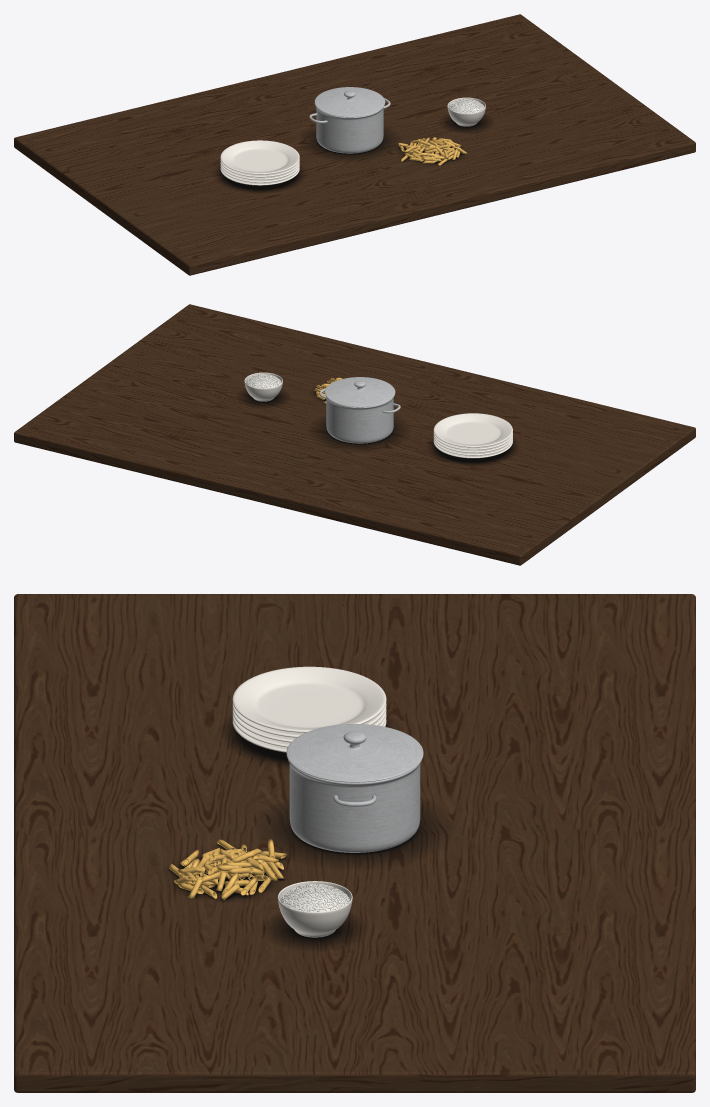
The picture shows the model from 3 angles, top to bottom: view 1: azimuth 30°, elevation 25°; view 2: azimuth 150°, elevation 25°; view 3: azimuth 270°, elevation 25°; orthographic projection. The views are drawn at different scales.
Visible parts, largest first — view 1: table, pot, plate_4, pot_lid, pasta, shadow_pot, shadow_plate_0, bowl, shadow_bowl, rice; view 2: table, pot, plate_4, pot_lid, shadow_pot, shadow_plate_0, bowl, shadow_bowl, rice; view 3: table, pot, plate_4, pot_lid, pasta, shadow_pot, bowl, shadow_bowl, rice, shadow_plate_0, shadow_pasta.
Boxes of the visible parts, left/top/right/bottom form: table: left=14, top=14, right=695, bottom=275; pot: left=309, top=98, right=390, bottom=153; plate_4: left=220, top=140, right=299, bottom=174; pot_lid: left=314, top=87, right=385, bottom=117; pasta: left=398, top=137, right=467, bottom=165; shadow_pot: left=302, top=127, right=396, bottom=160; shadow_plate_0: left=215, top=166, right=304, bottom=192; bowl: left=447, top=97, right=485, bottom=126; shadow_bowl: left=441, top=115, right=491, bottom=132; rice: left=448, top=99, right=484, bottom=113; table: left=14, top=304, right=695, bottom=565; pot: left=319, top=388, right=400, bottom=443; plate_4: left=433, top=413, right=512, bottom=447; pot_lid: left=324, top=377, right=395, bottom=407; shadow_pot: left=313, top=417, right=406, bottom=450; shadow_plate_0: left=428, top=438, right=517, bottom=465; bowl: left=244, top=372, right=282, bottom=401; shadow_bowl: left=238, top=390, right=288, bottom=407; rice: left=245, top=374, right=281, bottom=388; table: left=14, top=594, right=695, bottom=1092; pot: left=288, top=760, right=421, bottom=852; plate_4: left=232, top=666, right=386, bottom=732; pot_lid: left=286, top=724, right=423, bottom=782; pasta: left=169, top=839, right=286, bottom=900; shadow_pot: left=263, top=801, right=445, bottom=866; bowl: left=277, top=881, right=352, bottom=937; shadow_bowl: left=265, top=914, right=364, bottom=949; rice: left=280, top=884, right=349, bottom=912; shadow_plate_0: left=222, top=716, right=395, bottom=767; shadow_pasta: left=166, top=844, right=287, bottom=901.
Bounding box in the file's own units: 2 × 0.2226 × 1.2.
Materials: 12 (9 with a texture image).
